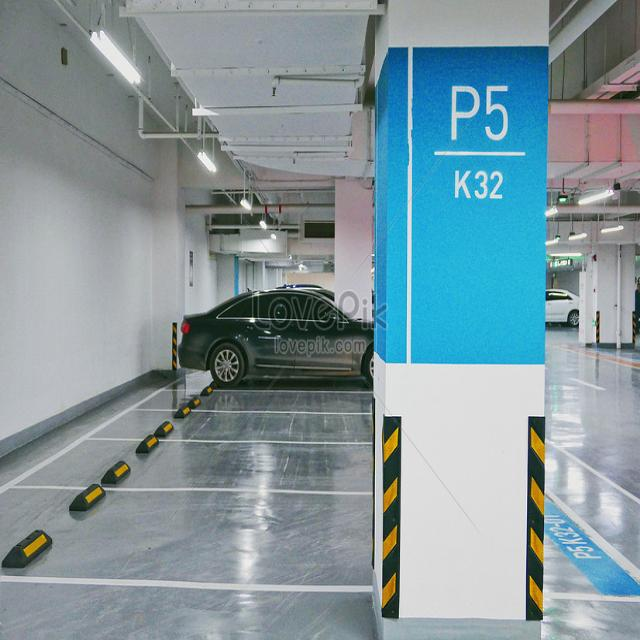libre: (41, 500, 362, 587), (9, 584, 370, 634), (128, 444, 367, 490), (182, 410, 365, 442), (209, 388, 362, 403)
ocupado: (178, 276, 372, 388), (549, 277, 584, 341)
